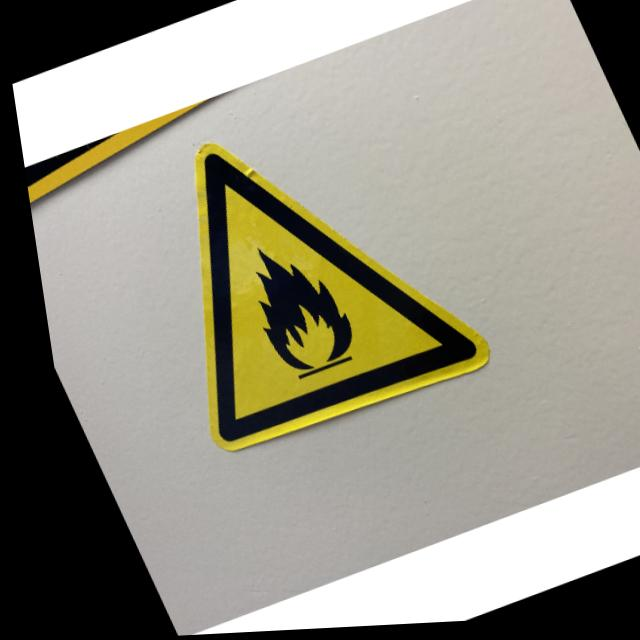fire hazard: (217, 229, 356, 388)
